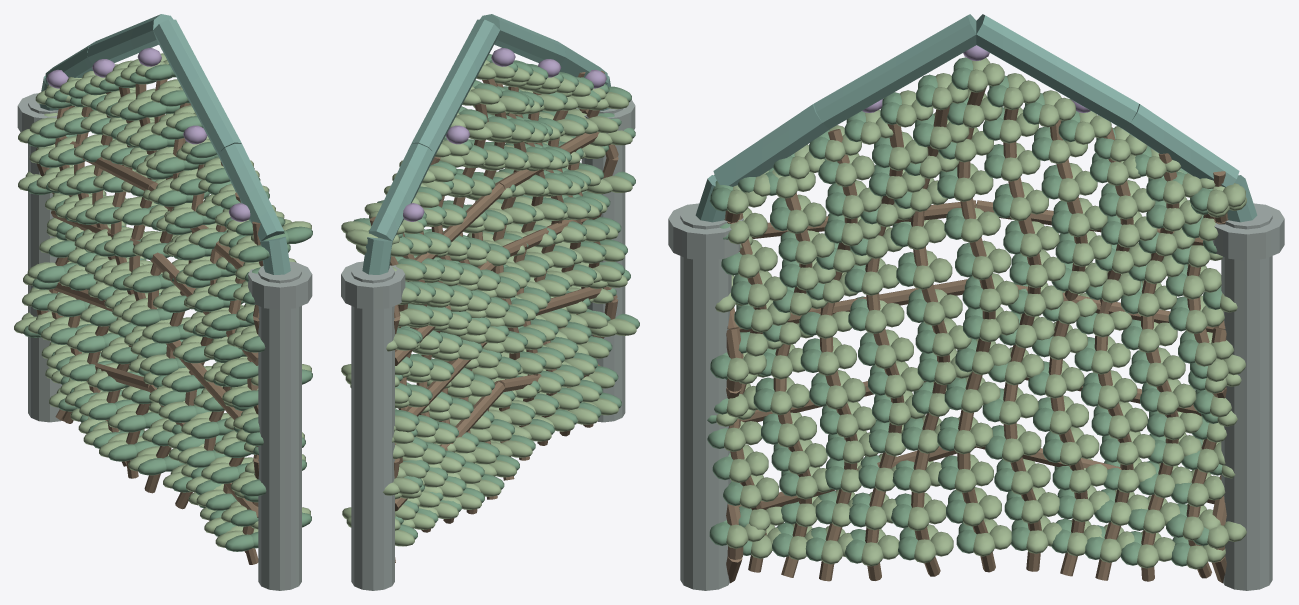
Rendered from opening-tower-vines.glb.
The picture shows the model from 3 angles, left to right: view 1: azimuth 30°, elevation 25°; view 2: azimuth 150°, elevation 25°; view 3: azimuth 270°, elevation 25°; orthographic projection. The views are drawn at different scales.
Visible parts, largest first — view 1: shut:towerVines, Forest hamlet, open:towerVines; view 2: shut:towerVines, Forest hamlet, open:towerVines; view 3: shut:towerVines, Forest hamlet, open:towerVines.
Boxes of the visible parts, box(x1,y1,x2,y2) form: shut:towerVines: box(22, 78, 306, 564); Forest hamlet: box(17, 14, 312, 590); open:towerVines: box(14, 48, 312, 529); shut:towerVines: box(350, 70, 631, 562); Forest hamlet: box(341, 14, 635, 590); open:towerVines: box(341, 48, 639, 530); shut:towerVines: box(707, 88, 1246, 581); Forest hamlet: box(668, 14, 1284, 590); open:towerVines: box(707, 45, 1246, 583).
Bounding box in the file's own units: 0.6842 × 3.64 × 3.6.
Materials: 6 (6 with a texture image).
